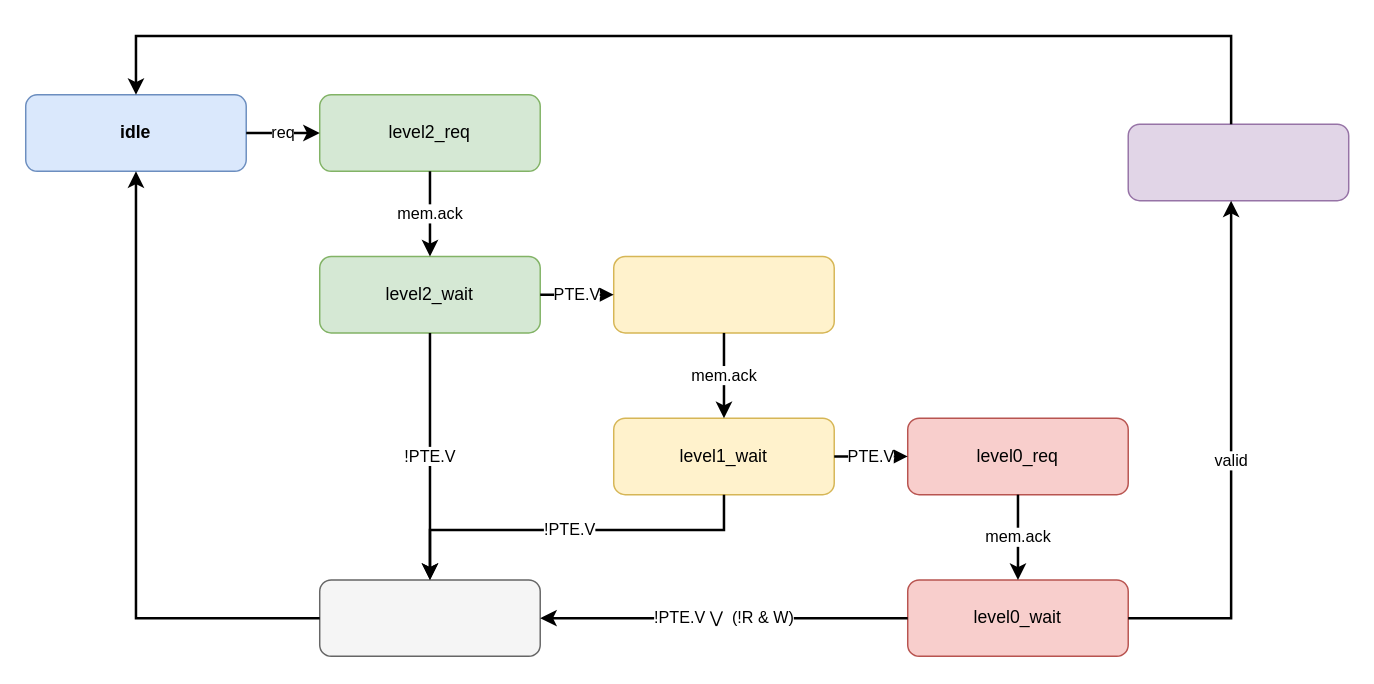
The diagram is 1374 pixels wide and 684 high, and some of its shapes have lost their labels. The box of each missing label's shape, as (x1, y1, x2, y2) in pixels:
done: (1127, 123, 1349, 201)
fault: (318, 578, 540, 656)
level1_req: (612, 255, 834, 333)
